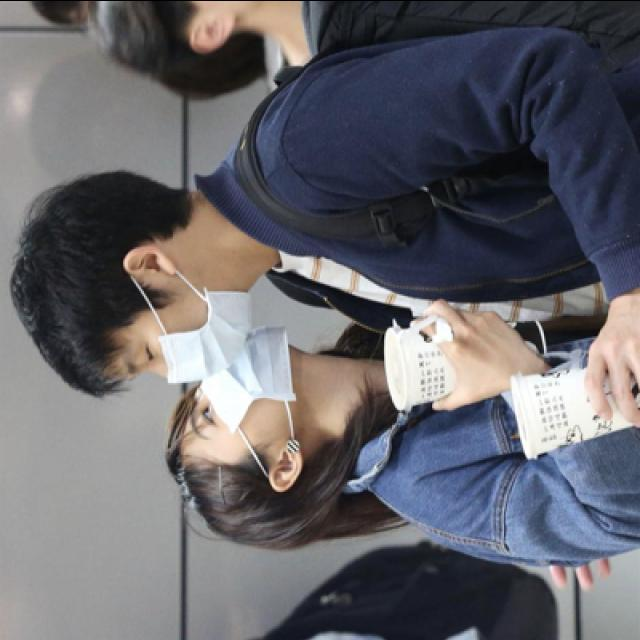mask: (184, 320, 291, 460), (121, 274, 242, 384)
